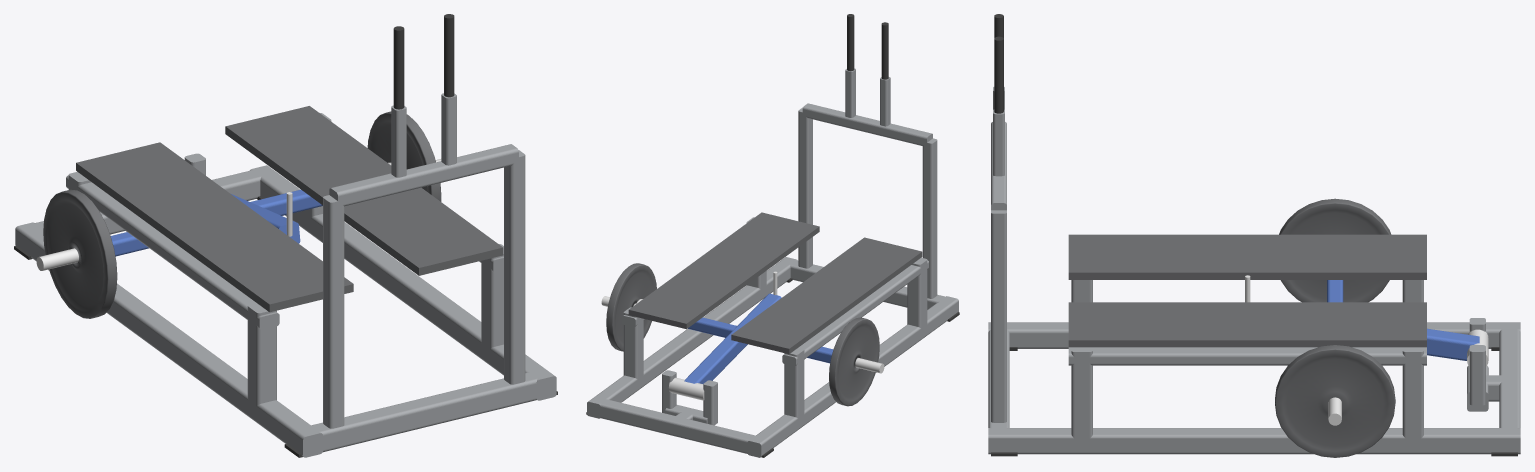
3 renders of one model, left to right at view 1: azimuth 30°, elevation 25°; view 2: azimuth 150°, elevation 25°; view 3: azimuth 270°, elevation 25°, orthographic. The views are drawn at different scales.
Parts seen in each view (by area): view 1: foot_plate (×2), base, handles, platform, lever, handle_bar, handle_grip (×2), lever_crossbar, lever_bar, plate_horn; view 2: foot_plate (×2), base, platform, lever, handles, handle_bar, lever_bar, frame, handle_grip (×2), lever_crossbar, lever_hub; view 3: foot_plate (×2), base, lever, platform, handles, frame, lever_bar, handle_bar, handle_grip.
Part boxes in pixels (x1,y1,x2,y2): foot_plate (×2): (76, 106, 503, 312); base: (14, 165, 557, 457); handles: (323, 93, 525, 428); platform: (66, 113, 503, 412); lever: (43, 111, 441, 318); handle_bar: (329, 144, 518, 206); handle_grip (×2): (393, 14, 454, 109); lever_crossbar: (110, 189, 322, 256); lever_bar: (230, 193, 300, 243); plate_horn: (36, 248, 78, 270); foot_plate (×2): (628, 212, 922, 353); base: (586, 257, 959, 457); platform: (621, 217, 928, 418); lever: (606, 263, 879, 406); handles: (798, 68, 937, 298); handle_bar: (802, 103, 932, 145); lever_bar: (684, 293, 781, 383); frame: (662, 370, 717, 425); handle_grip (×2): (847, 14, 888, 79); lever_crossbar: (688, 317, 833, 363); lever_hub: (668, 377, 704, 400); foot_plate (×2): (1068, 234, 1426, 347); base: (988, 322, 1520, 456); lever: (1275, 198, 1395, 457); platform: (1068, 280, 1426, 445); handles: (991, 87, 1006, 422); frame: (1467, 318, 1488, 411); lever_bar: (1427, 328, 1479, 360); handle_bar: (991, 122, 1006, 210); handle_grip: (994, 36, 1003, 113).
Bounding box in the file's own units: 1.61 × 1.52 × 1.99.
